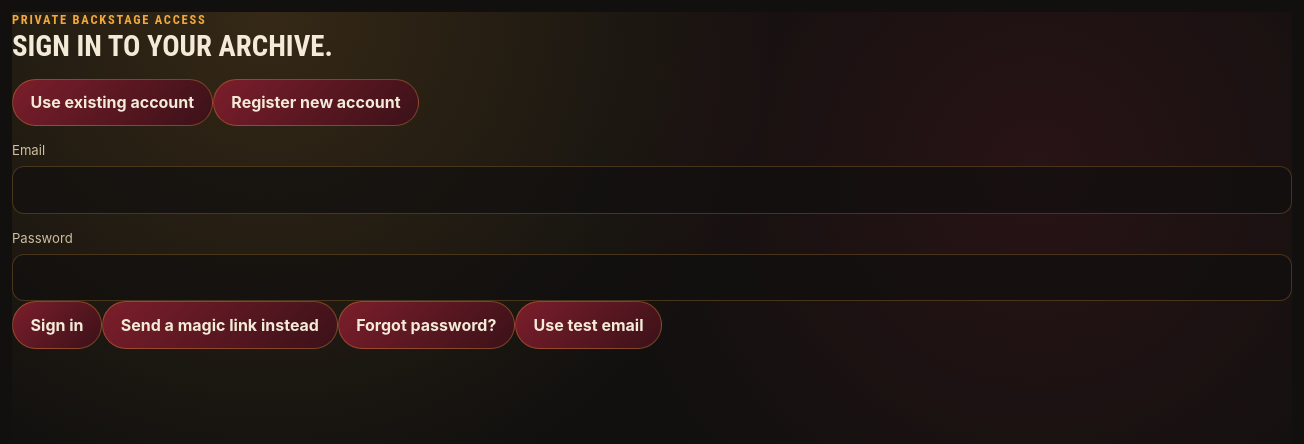
Test: AuthPage › prefills the configured test login email
Click the button "Use test email": (589, 325) [515, 302, 662, 349]
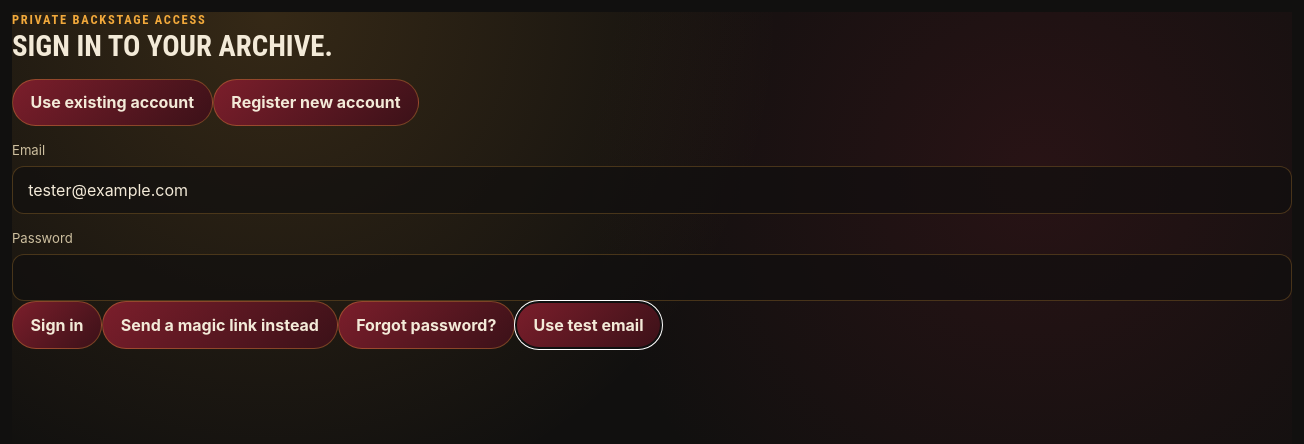
Now the field labelled "Email" holds "tester@example.com", box [12, 166, 1292, 214]
